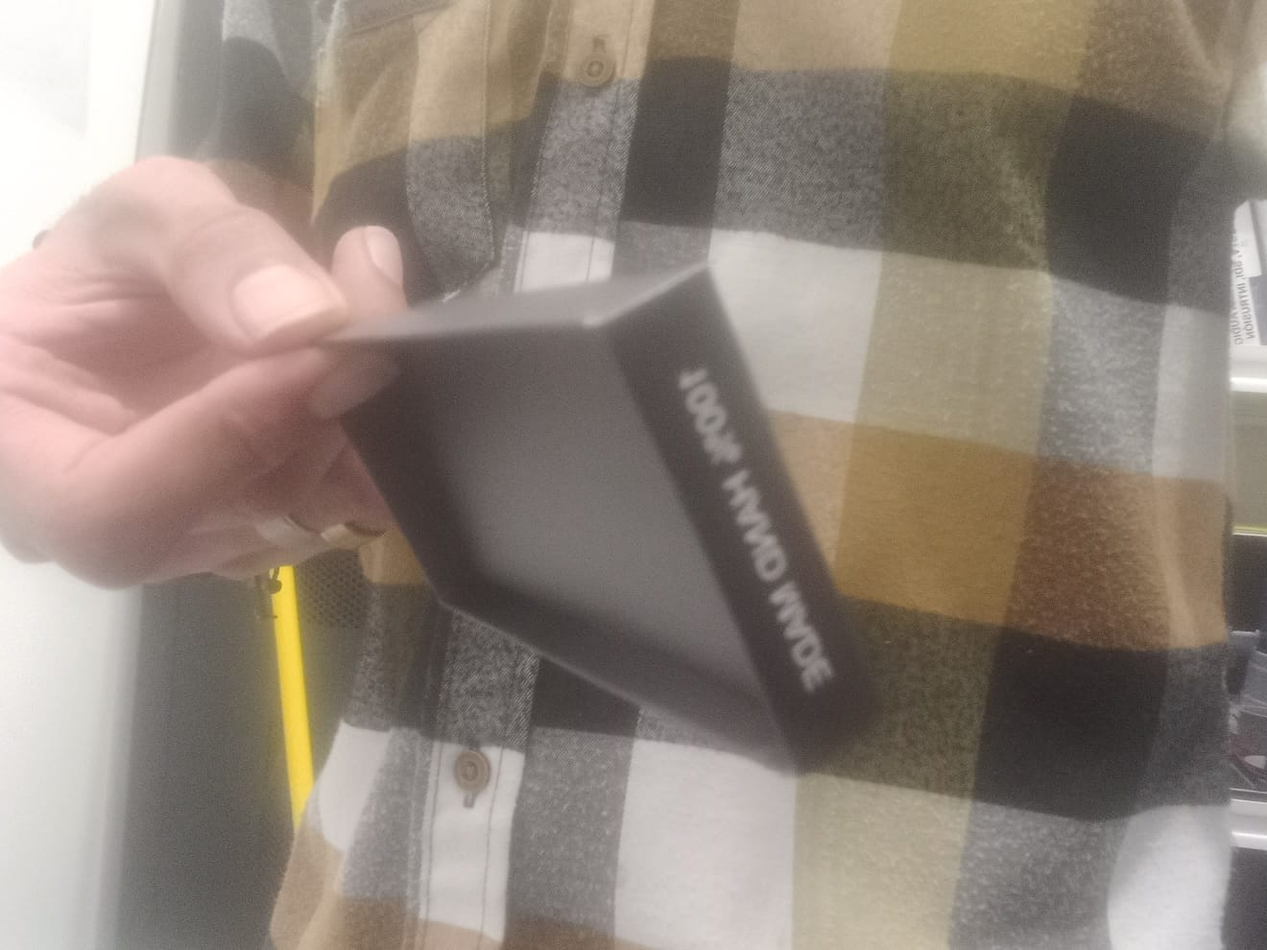Carton: (314, 262, 879, 776)
